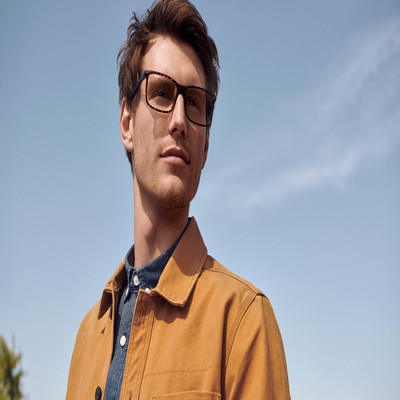eywear: (124, 51, 231, 127)
